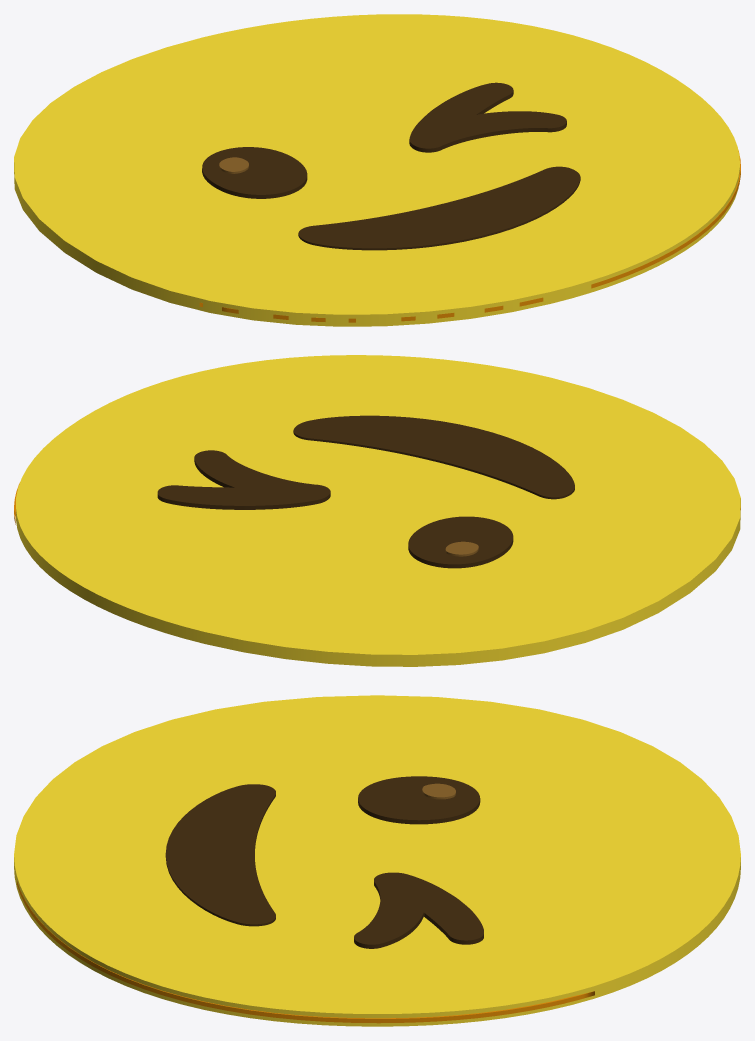
The model's file is emoji_u1f609.glb.
3 views of the same model, one above another, from view 1: azimuth 30°, elevation 25°; view 2: azimuth 150°, elevation 25°; view 3: azimuth 270°, elevation 25° (orthographic). The views are drawn at different scales.
Parts seen in each view (by area): view 1: emoji_u1f609; view 2: emoji_u1f609; view 3: emoji_u1f609.
Boxes of the visible parts, bbox=[...] form: emoji_u1f609: bbox=[14, 14, 740, 326]; emoji_u1f609: bbox=[14, 355, 740, 666]; emoji_u1f609: bbox=[14, 695, 740, 1026].
Bounding box in the file's own units: 0.0327 × 0.0012 × 0.0315.
